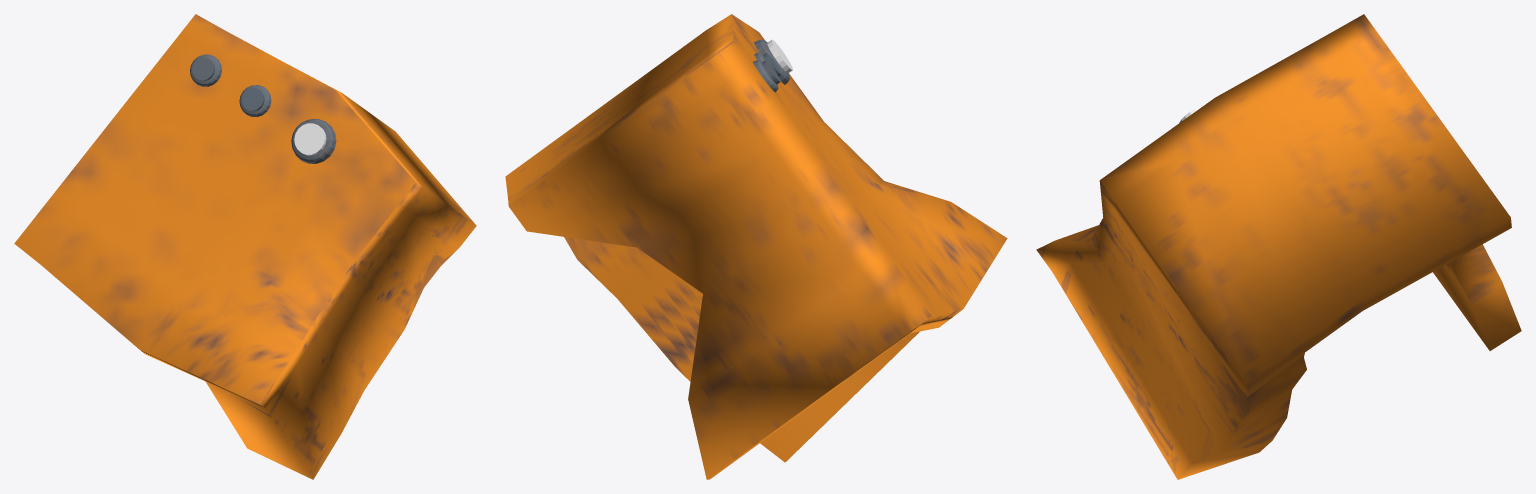
Rendered from blinkyCommsBox.fbx.
3 views of the same model, side by side, from view 1: azimuth 30°, elevation 25°; view 2: azimuth 150°, elevation 25°; view 3: azimuth 270°, elevation 25° (orthographic). The views are drawn at different scales.
Visible parts, largest first — view 1: blinkingCommsBox; view 2: blinkingCommsBox; view 3: blinkingCommsBox.
Part boxes in pixels (left/top/right/bottom): blinkingCommsBox: left=14, top=14, right=476, bottom=479; blinkingCommsBox: left=505, top=14, right=1007, bottom=479; blinkingCommsBox: left=1036, top=14, right=1521, bottom=479.
Bounding box in the file's own units: 1.05 × 1.03 × 1.01.
